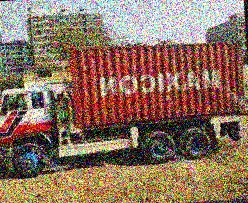truck: (0, 38, 248, 174)
